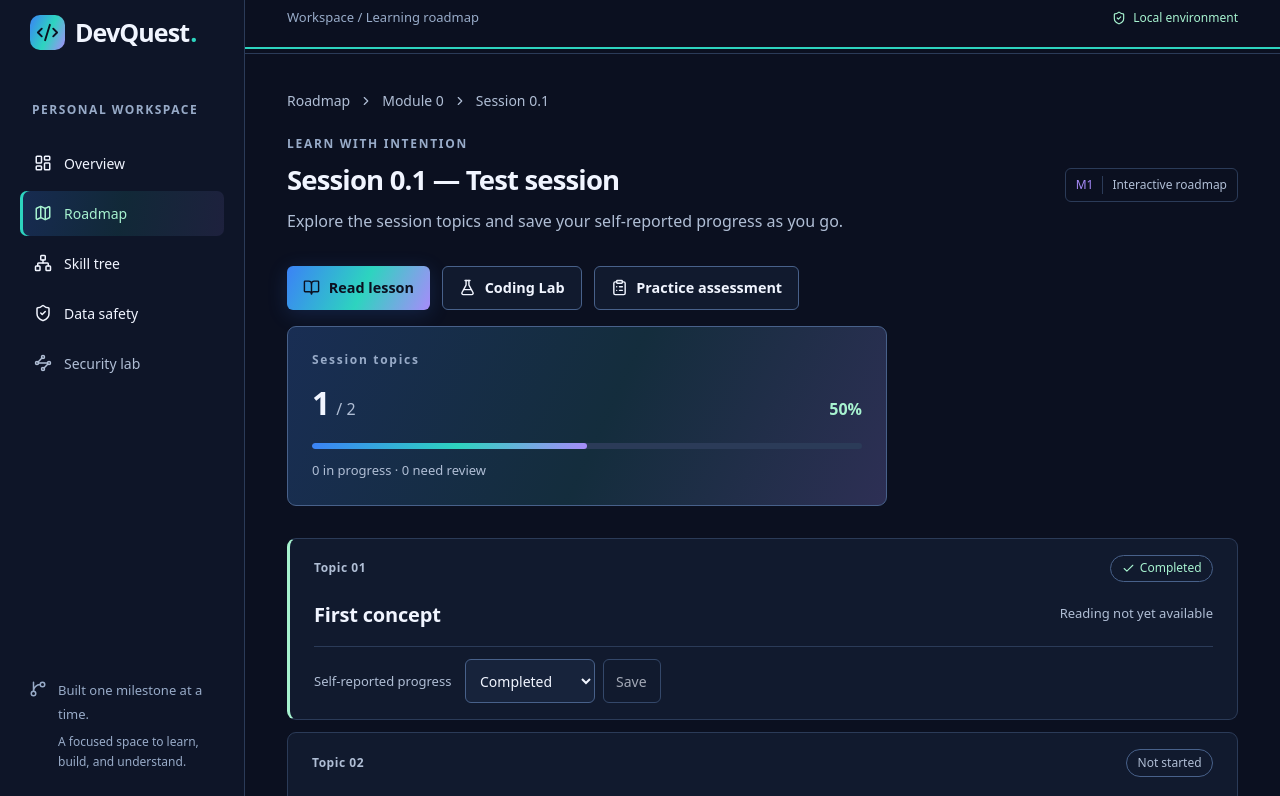
it: interactive roadmap › opens the lab for its bound lesson key and links to Reading and Assessment without writes
Click the link "Coding Lab": [512, 288] box left=442, top=266, right=582, bottom=310
(page scrolled)
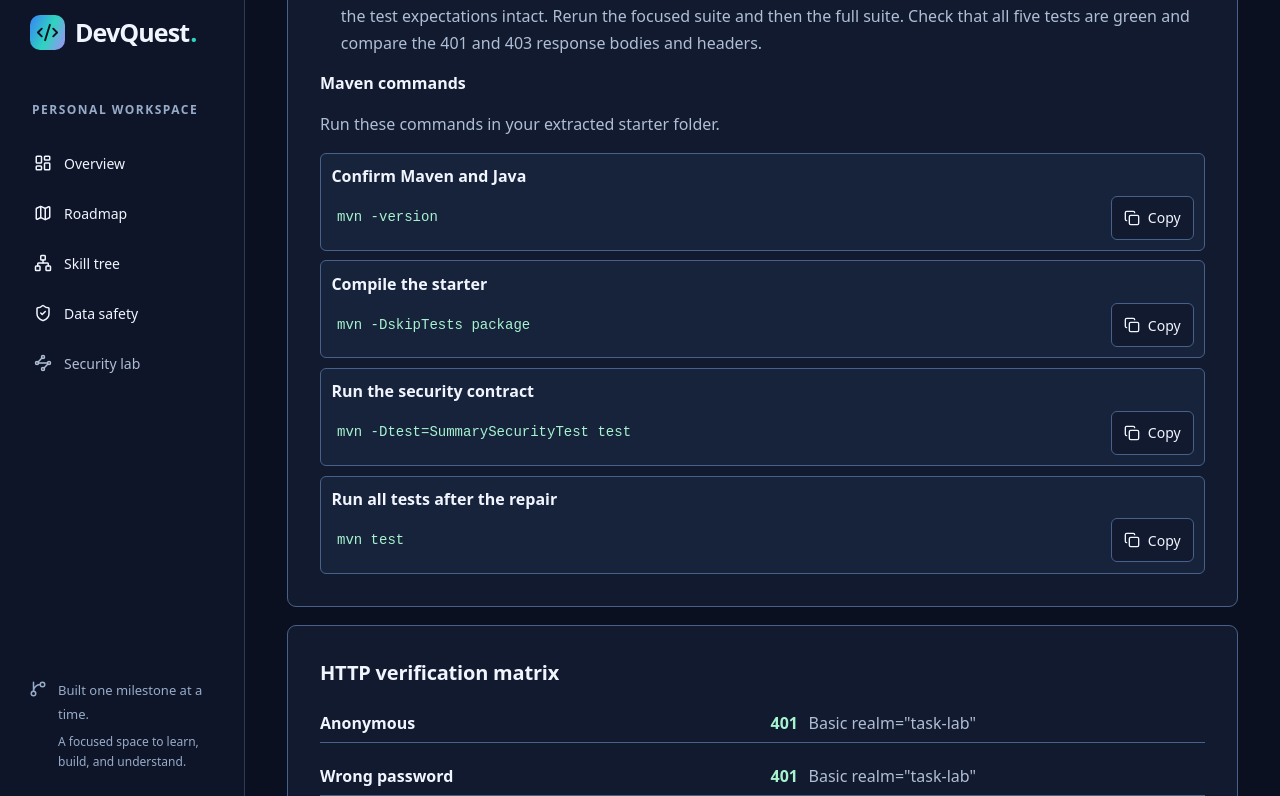
Click the button with aria-label "Copy command: Run the security contract": [1152, 433] box left=1111, top=411, right=1194, bottom=455
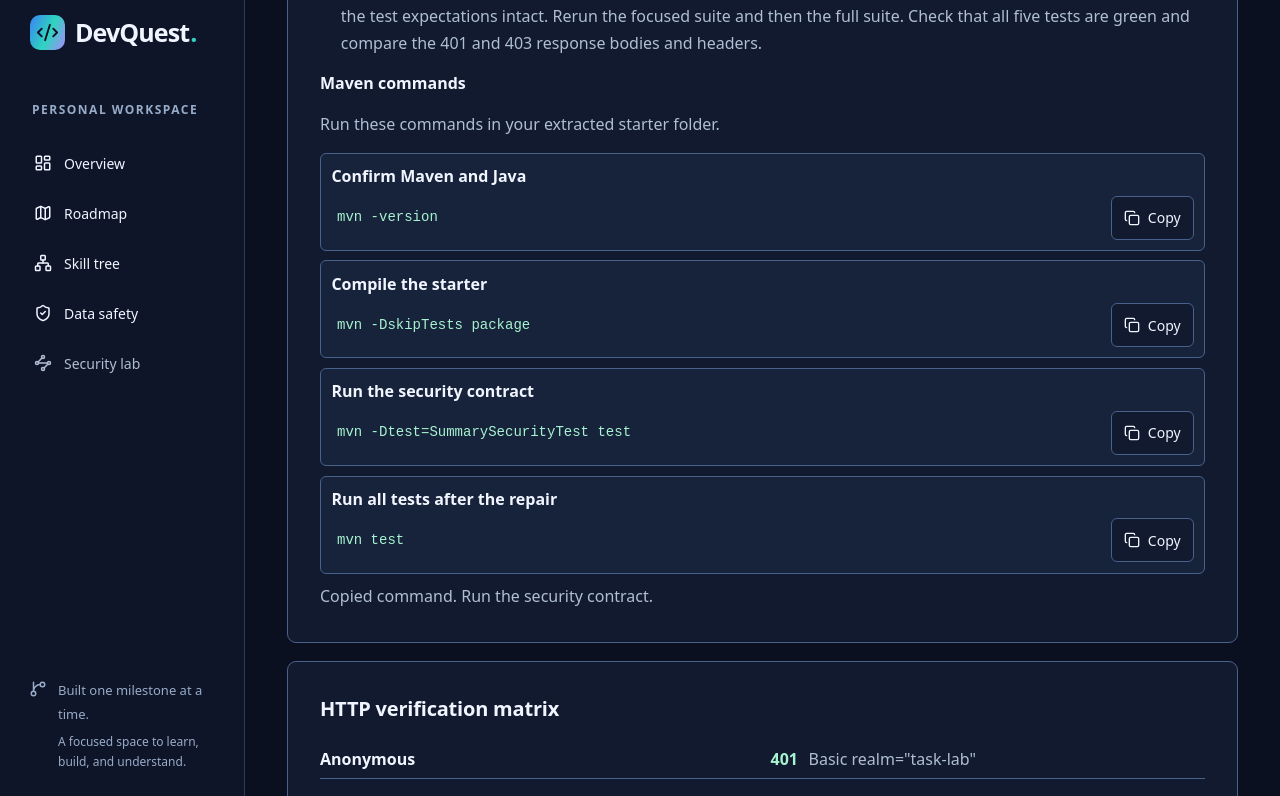
Expected: the text "Copied command. Run the security contract." is shown, left=320, top=585, right=653, bottom=607
